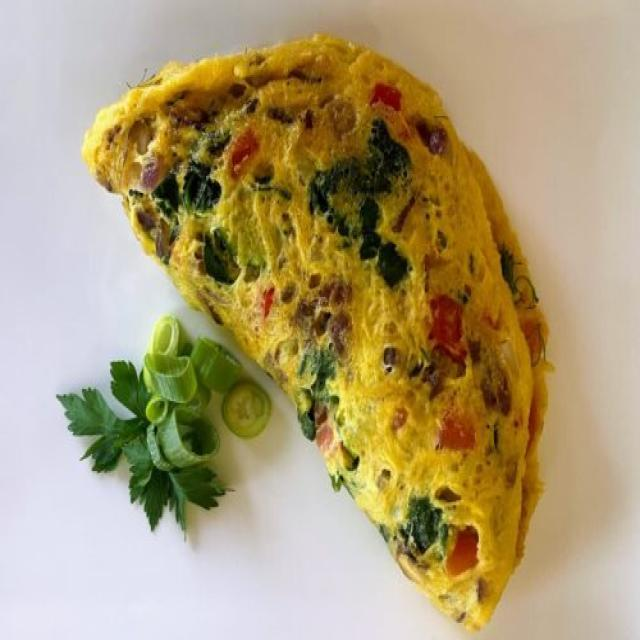telur_ayam_dadar: (82, 34, 554, 635)
